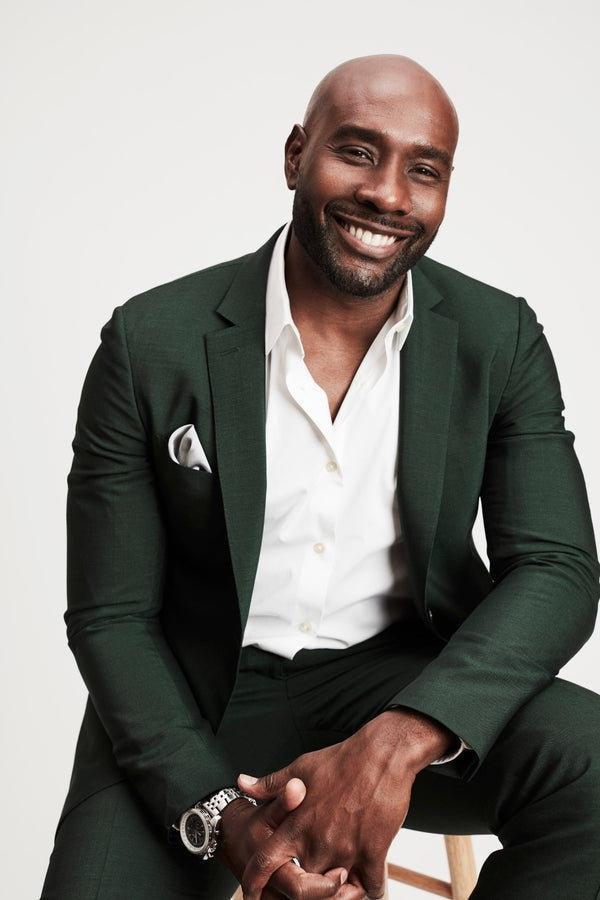Sober: (317, 80, 448, 288)
